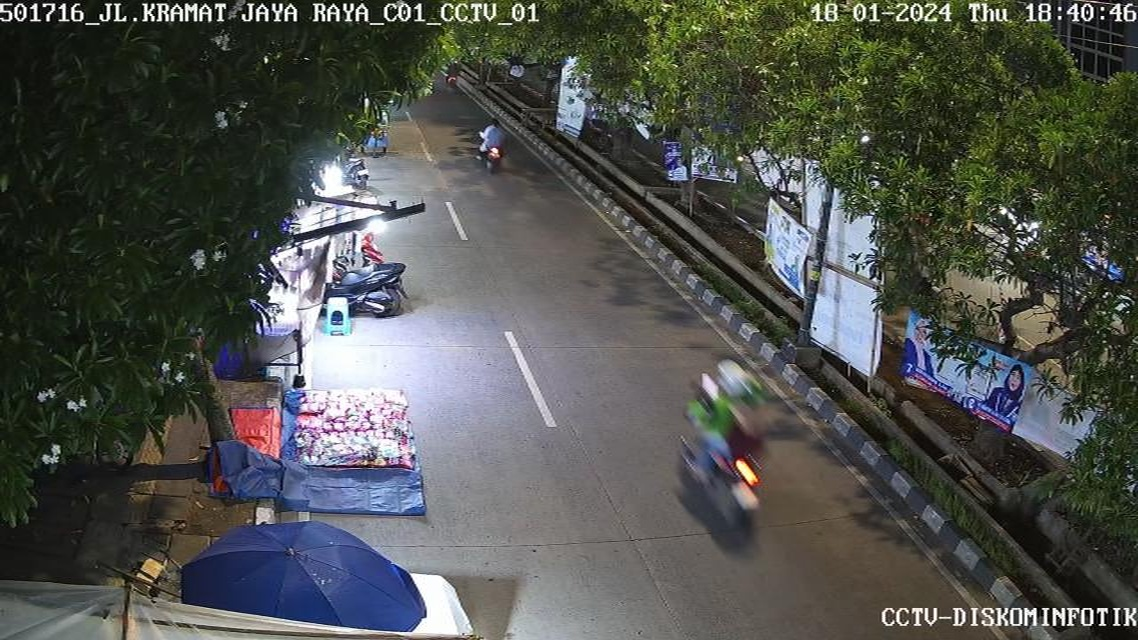Emperan: (290, 386, 418, 468)
